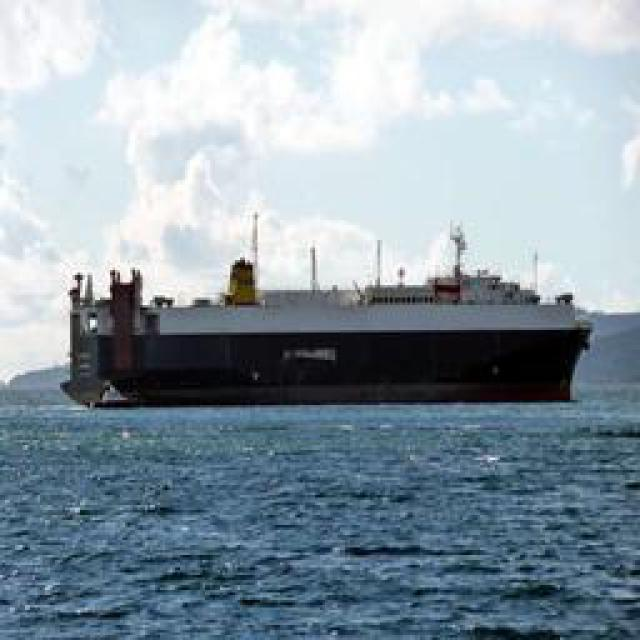Ship: (60, 205, 599, 409)
